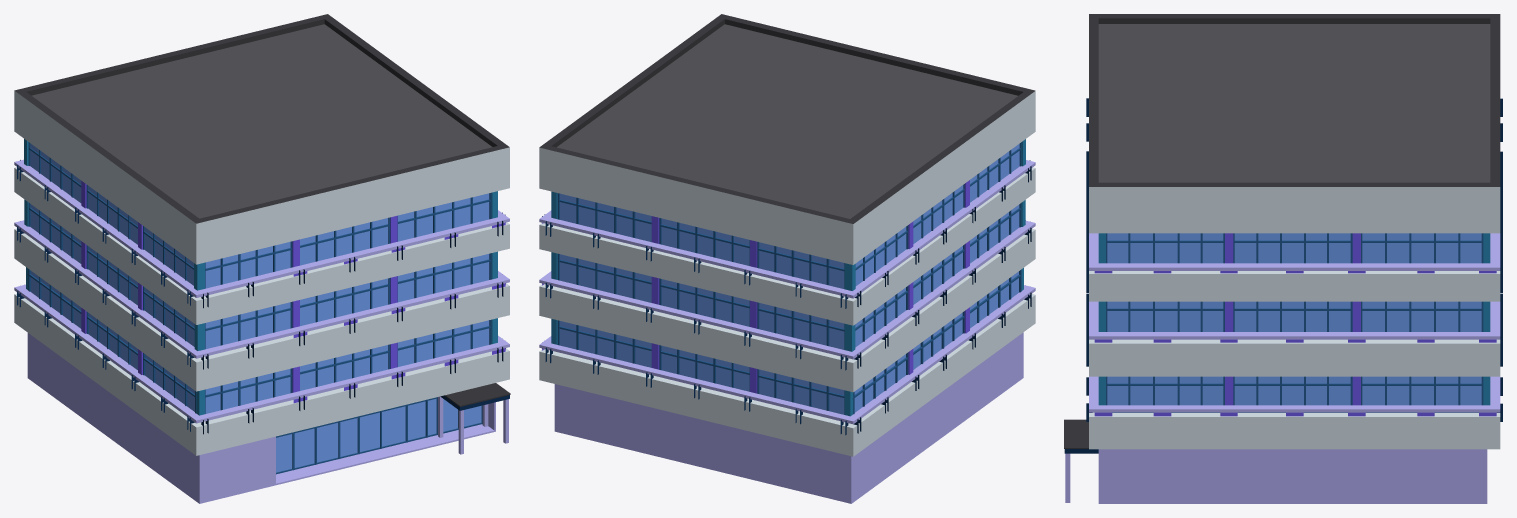
3 views of the same model, side by side, from view 1: azimuth 30°, elevation 25°; view 2: azimuth 150°, elevation 25°; view 3: azimuth 270°, elevation 25° (orthographic). The views are drawn at different scales.
Visible parts, largest first — view 1: Building6_a_LP_LOD0; view 2: Building6_a_LP_LOD0; view 3: Building6_a_LP_LOD0.
Boxes of the visible parts, left/top/right/bottom form: Building6_a_LP_LOD0: left=14, top=14, right=510, bottom=503; Building6_a_LP_LOD0: left=539, top=14, right=1035, bottom=503; Building6_a_LP_LOD0: left=1064, top=14, right=1502, bottom=503.
Bounding box in the file's own units: 1816 × 1567 × 1933.
